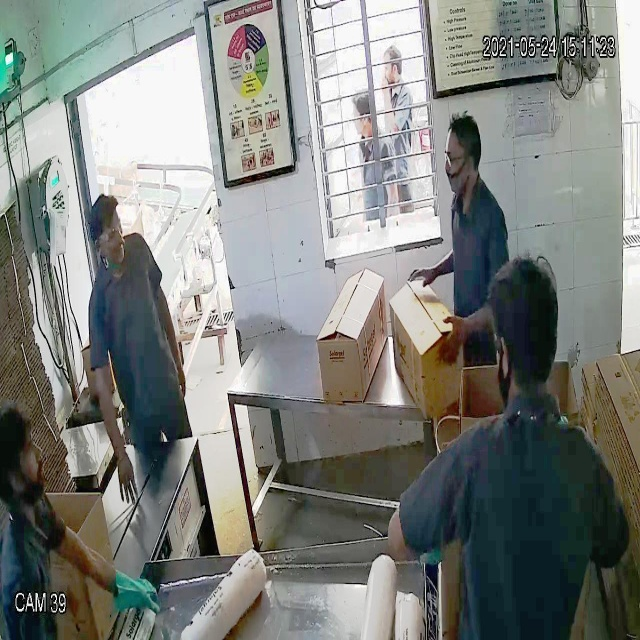Gafas: (90, 214, 126, 250), (440, 145, 480, 172)
